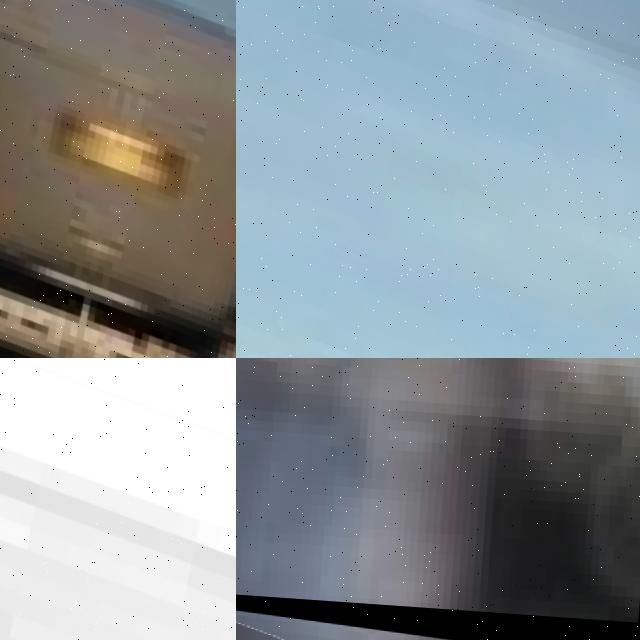drone: (236, 0, 640, 358), (0, 0, 236, 358), (0, 358, 236, 640), (236, 577, 637, 640)
